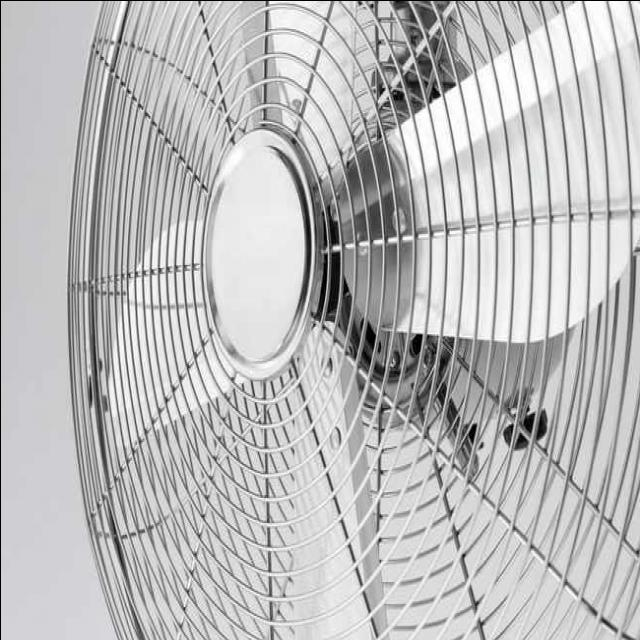fan: (66, 1, 637, 640)
